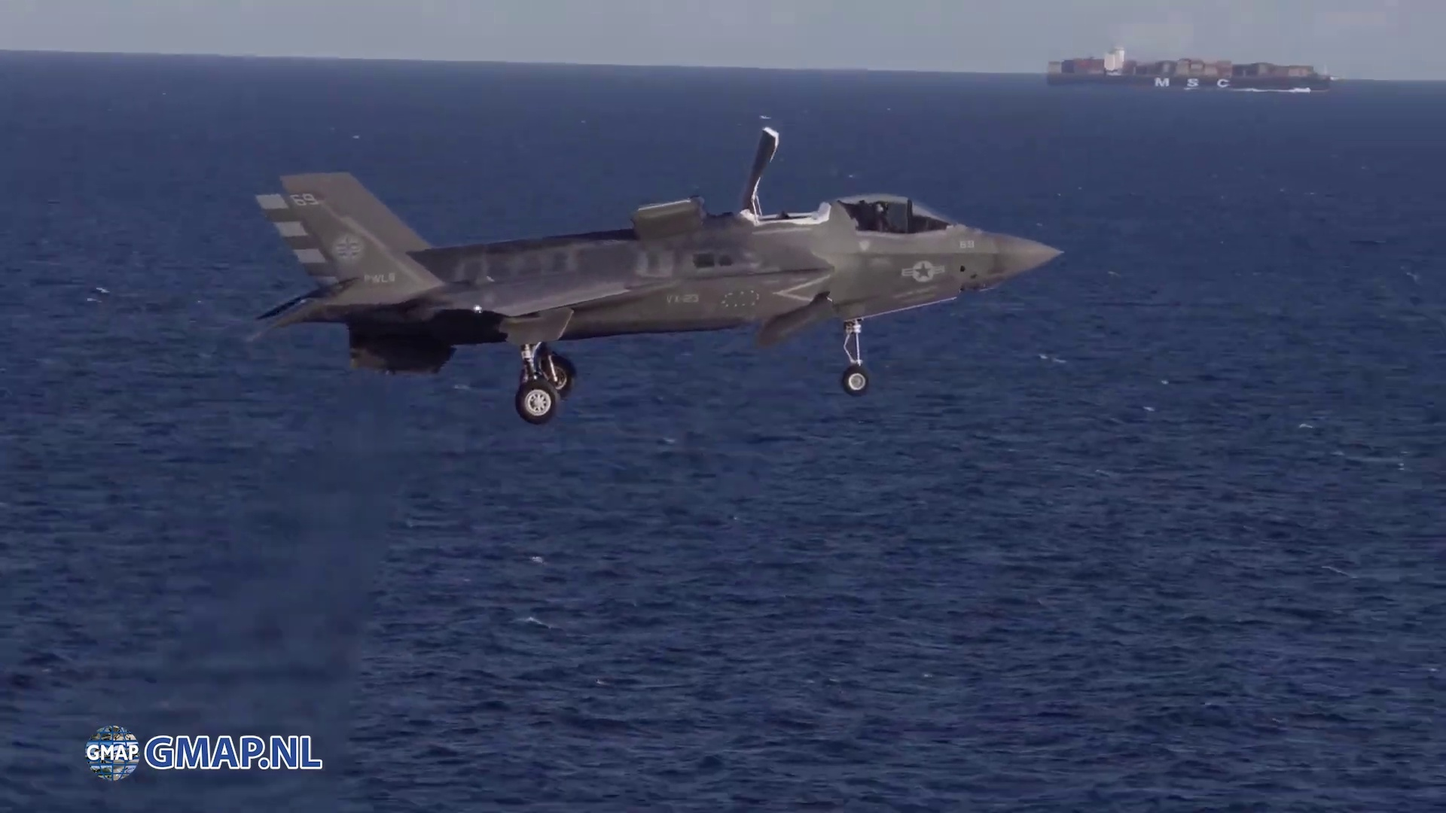F35: (243, 114, 1074, 434)
